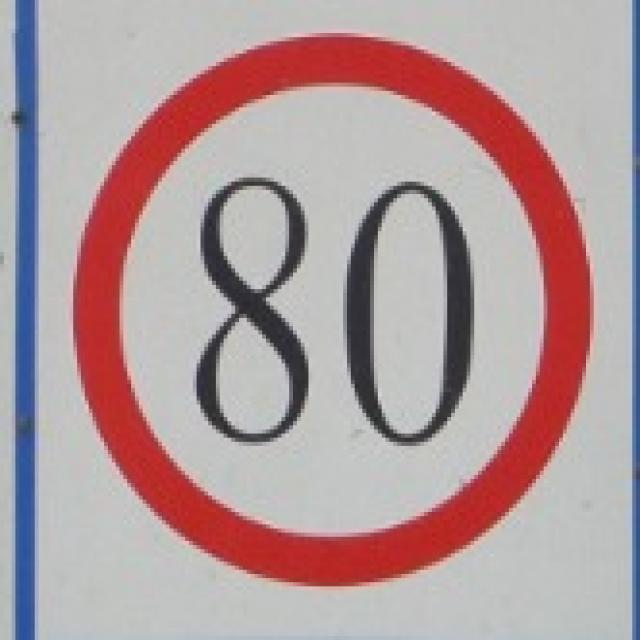Speed Limit -80-: (192, 174, 479, 449)
